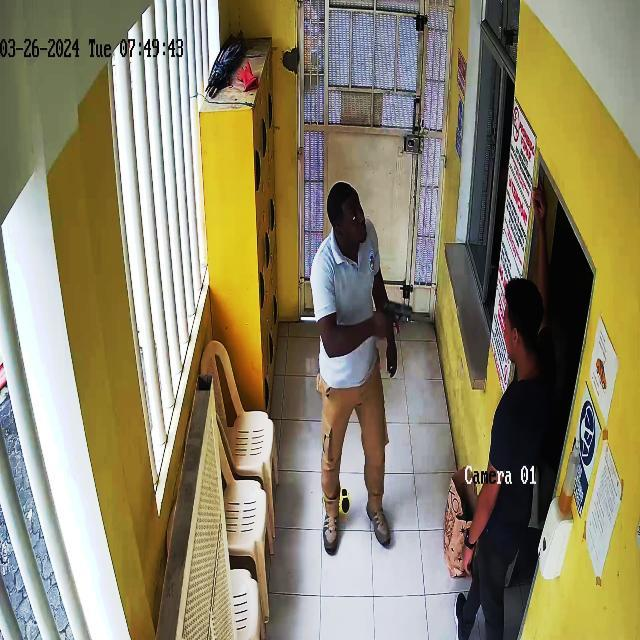Gun: (375, 275, 427, 348)
